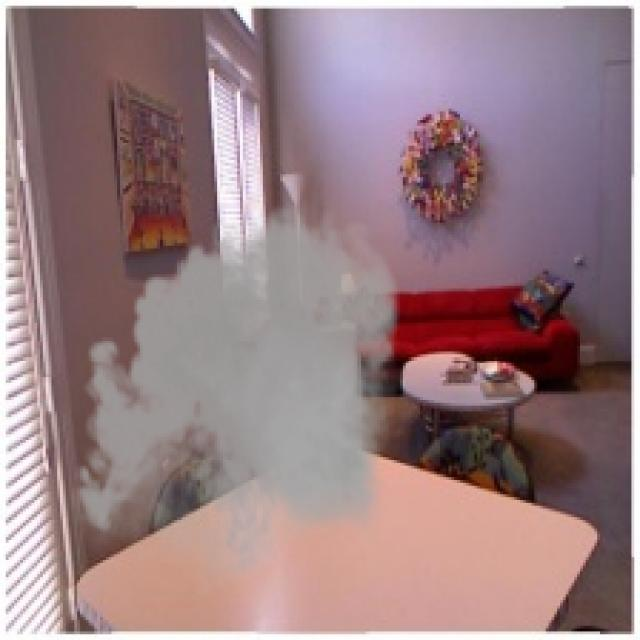smoke: (66, 192, 411, 597)
